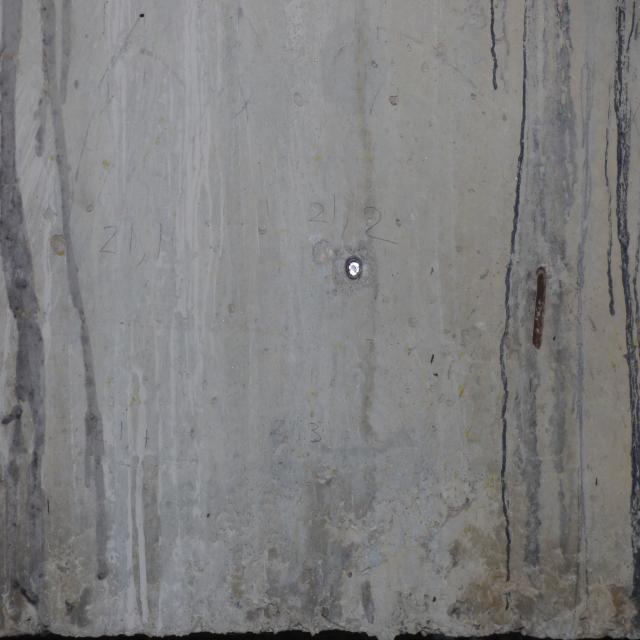corrosion: (522, 257, 557, 369)
